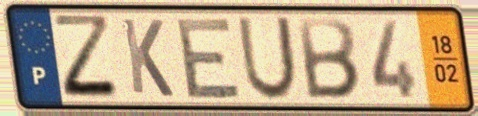4: (367, 18, 420, 101)
B: (295, 15, 362, 102)
E: (174, 14, 245, 101)
K: (119, 16, 177, 101)
U: (235, 14, 300, 103)
Z: (49, 12, 124, 103)
